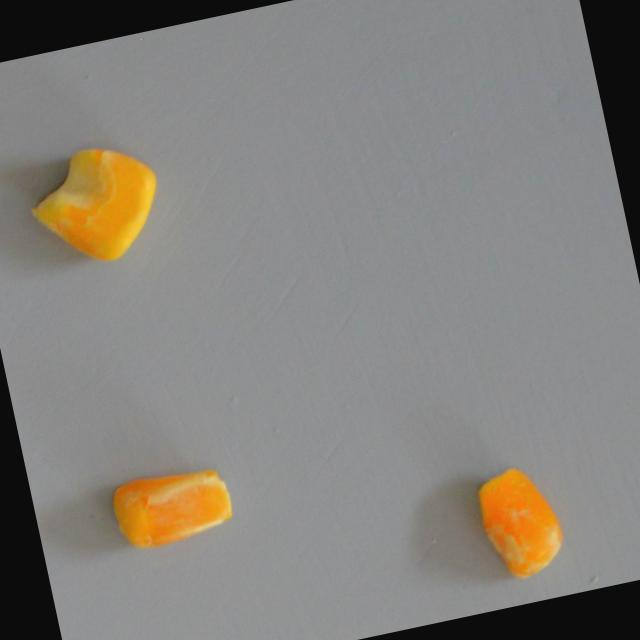pelicula: (20, 136, 169, 276), (466, 458, 571, 586), (103, 459, 237, 554)
